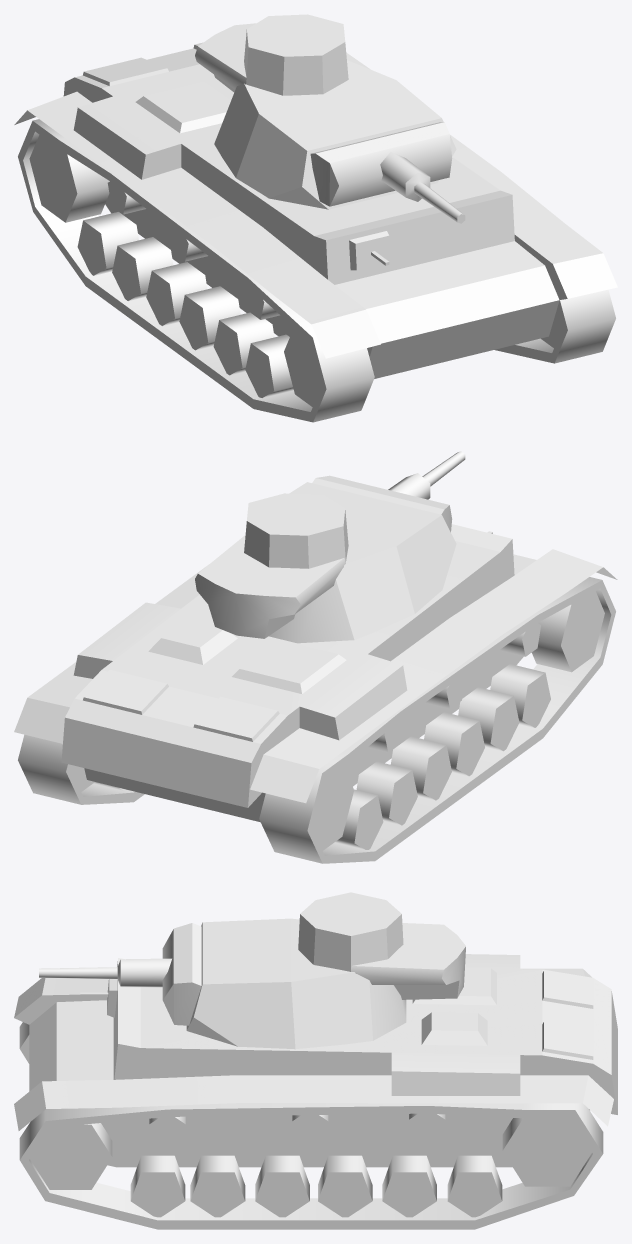
File: panzer_III_low-poly_tank.glb
The picture shows the model from 3 angles, top to bottom: view 1: azimuth 30°, elevation 25°; view 2: azimuth 150°, elevation 25°; view 3: azimuth 270°, elevation 25°; orthographic projection. The views are drawn at different scales.
Parts seen in each view (by area): view 1: Hull_Material.001_0, Tracks_Material.001_0, Turret_Material.001_0, Gun_Material.001_0; view 2: Hull_Material.001_0, Tracks_Material.001_0, Turret_Material.001_0, Gun_Material.001_0; view 3: Hull_Material.001_0, Tracks_Material.001_0, Turret_Material.001_0, Gun_Material.001_0.
Part boxes in pixels (box(x1,y1,x2,y2)): Hull_Material.001_0: box(14, 42, 617, 378); Tracks_Material.001_0: box(18, 119, 615, 422); Turret_Material.001_0: box(195, 14, 456, 209); Gun_Material.001_0: box(310, 122, 465, 223); Hull_Material.001_0: box(14, 524, 617, 822); Tracks_Material.001_0: box(18, 577, 615, 863); Turret_Material.001_0: box(195, 482, 456, 643); Gun_Material.001_0: box(312, 451, 465, 532); Hull_Material.001_0: box(14, 954, 617, 1167); Tracks_Material.001_0: box(19, 1022, 603, 1229); Turret_Material.001_0: box(186, 892, 465, 1049); Gun_Material.001_0: box(39, 923, 201, 1025).
Bounding box in the file's own units: 2.25 × 1.94 × 4.27.
1 material, 1 textured.
